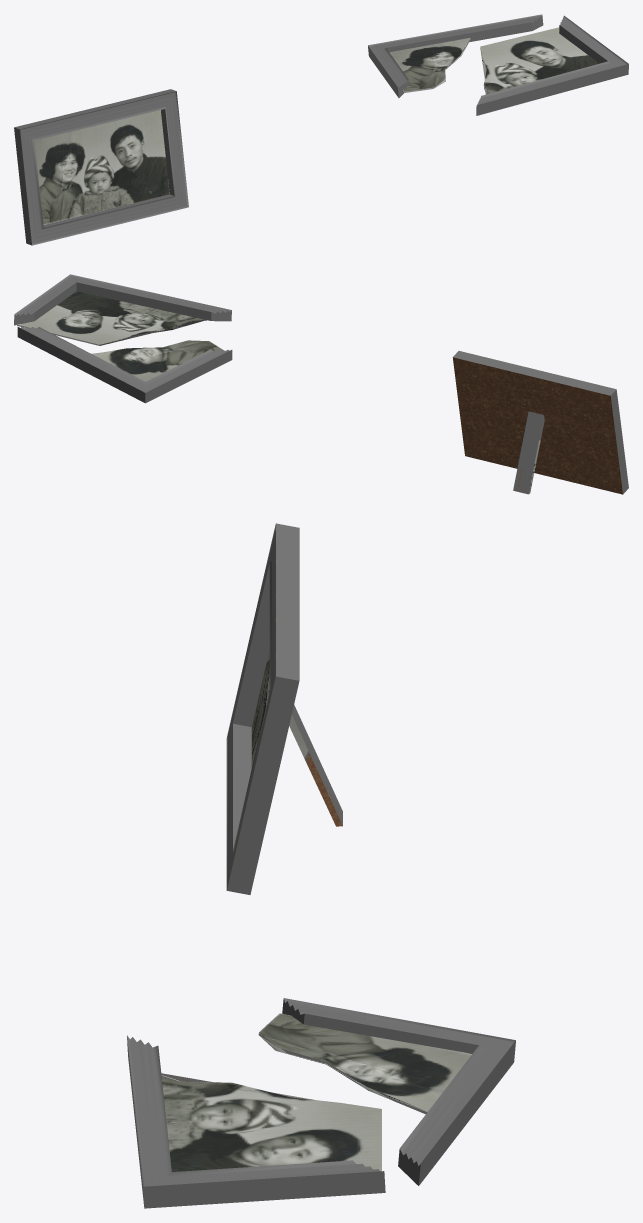
The model's file is PictureFrame_READYTOGO.fbx.
3 views of the same model, one above another, from view 1: azimuth 30°, elevation 25°; view 2: azimuth 150°, elevation 25°; view 3: azimuth 270°, elevation 25° (orthographic). The views are drawn at different scales.
Visible parts, largest first — view 1: polySurface1, polySurface4, polySurface6, polySurface3, polySurface7; view 2: polySurface1, polySurface4, polySurface3, polySurface6, polySurface7, pCube3; view 3: polySurface1, polySurface4, polySurface6, polySurface3, polySurface7, pCube3.
Part boxes in pixels (left/top/right/bottom): polySurface1: left=14, top=89, right=188, bottom=245; polySurface4: left=480, top=27, right=598, bottom=94; polySurface6: left=476, top=15, right=628, bottom=115; polySurface3: left=368, top=14, right=543, bottom=97; polySurface7: left=389, top=38, right=470, bottom=92; polySurface1: left=452, top=351, right=628, bottom=494; polySurface4: left=17, top=291, right=206, bottom=345; polySurface3: left=17, top=327, right=232, bottom=403; polySurface6: left=14, top=274, right=231, bottom=325; polySurface7: left=91, top=340, right=224, bottom=381; pCube3: left=513, top=411, right=544, bottom=494; polySurface1: left=226, top=523, right=299, bottom=894; polySurface4: left=161, top=1073, right=381, bottom=1171; polySurface6: left=127, top=1035, right=385, bottom=1208; polySurface3: left=282, top=998, right=515, bottom=1185; polySurface7: left=258, top=1013, right=471, bottom=1114; pCube3: left=289, top=704, right=342, bottom=826.
Bounding box in the file's own units: 1.1 × 0.2002 × 0.3223.
